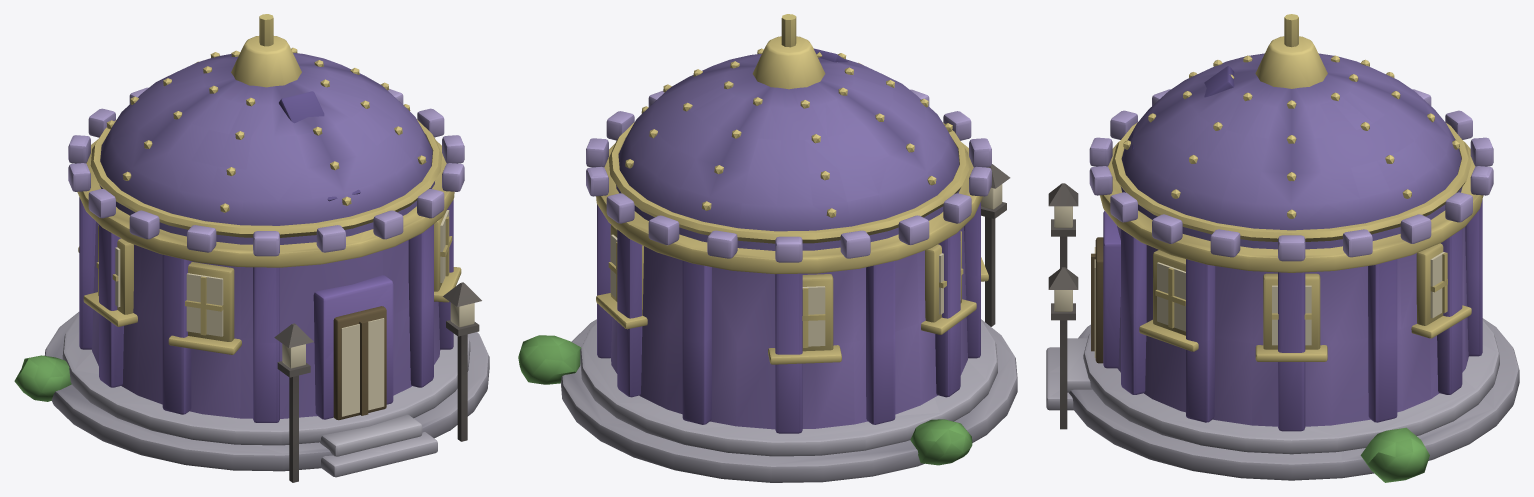
The model's file is obs.glb.
3 renders of one model, left to right at view 1: azimuth 30°, elevation 25°; view 2: azimuth 150°, elevation 25°; view 3: azimuth 270°, elevation 25°, orthographic. The views are drawn at different scales.
Parts seen in each view (by area): view 1: main, glow; view 2: main, glow; view 3: main, glow.
Part boxes in pixels (x1,y1,x2,y2): main: (14, 14, 489, 482); glow: (115, 210, 474, 416); main: (518, 14, 1017, 482); glow: (611, 184, 1002, 346); main: (1046, 14, 1519, 482); glow: (1054, 206, 1444, 357).
Size of the model in its own units: 1.99 by 1.65 by 1.91.
